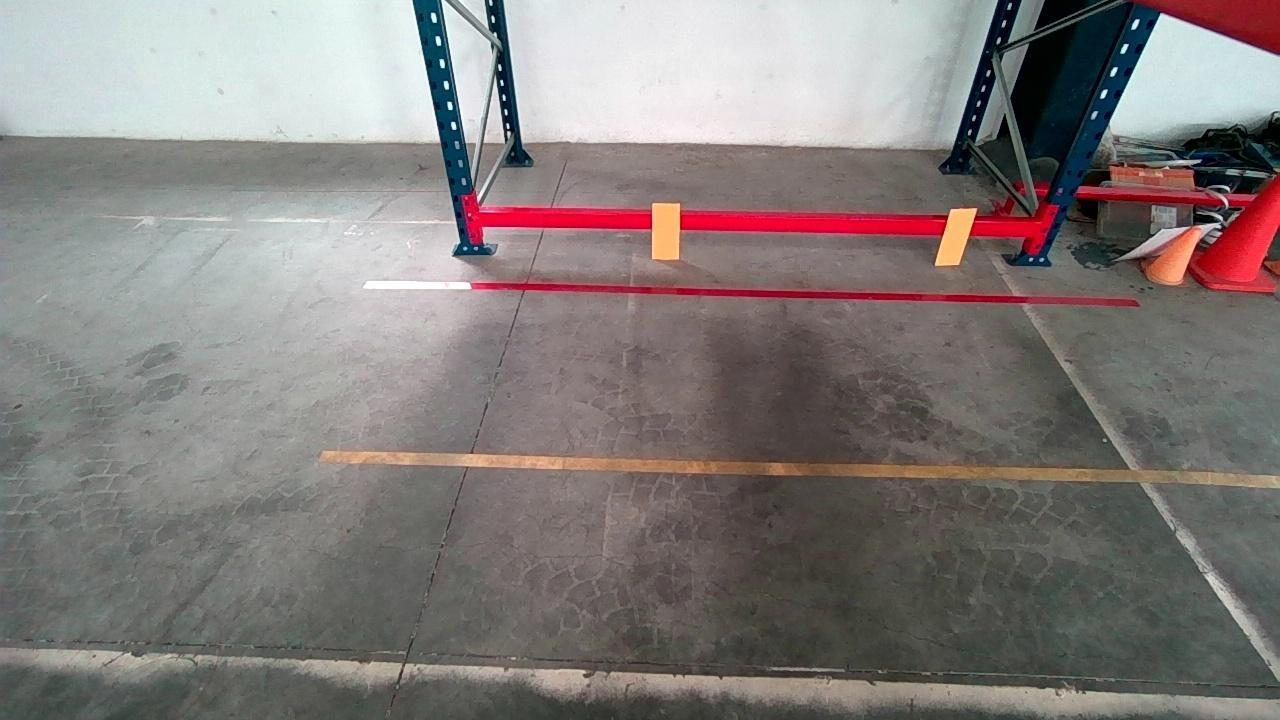h_rack: (479, 211, 1040, 237)
orange_strip: (935, 208, 977, 264), (652, 201, 682, 259)
red_line: (373, 273, 1132, 312)
yellow_line: (314, 446, 1280, 489)
